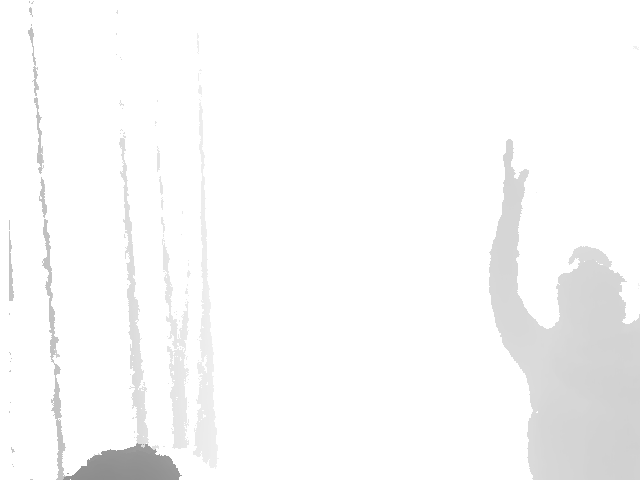hand: (496, 135, 532, 202)
head: (547, 244, 632, 333)
person: (489, 130, 640, 480)
